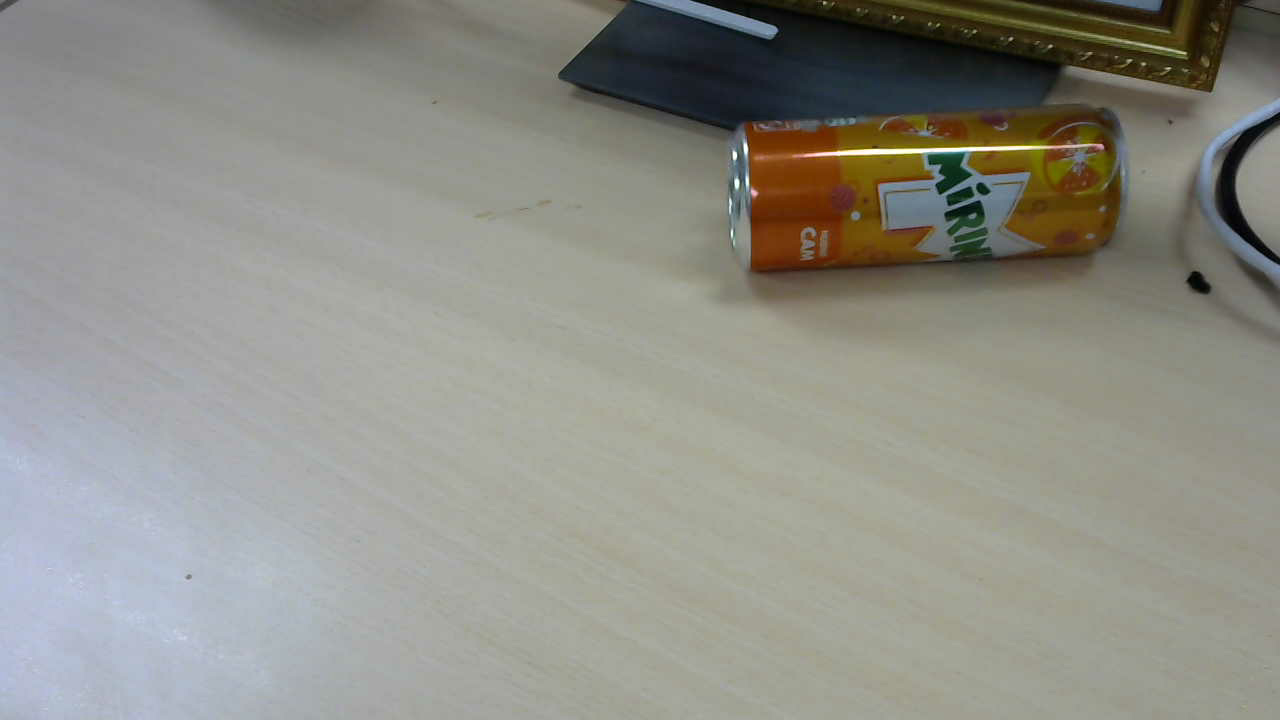Mirinda: (738, 107, 1126, 280)
